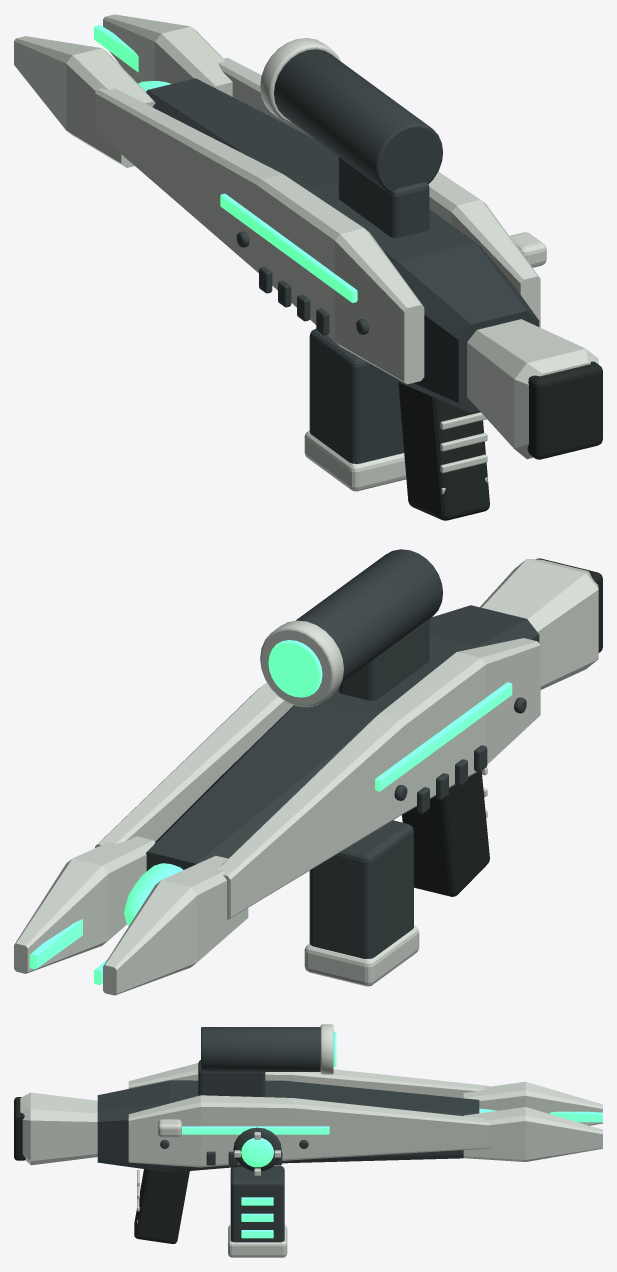
Rendered from Reference_plasma_sniper.glb.
3 renders of one model, top to bottom at view 1: azimuth 30°, elevation 25°; view 2: azimuth 150°, elevation 25°; view 3: azimuth 270°, elevation 25°, orthographic. The views are drawn at different scales.
Visible parts, largest first — view 1: Body, ReloadMagazine_EnergyCell, ChargingHandle_Reference; view 2: Body, ReloadMagazine_EnergyCell; view 3: Body, ReloadMagazine_EnergyCell, ChargingHandle_Reference.
Boxes of the visible parts, x1=… form: Body: x1=14, y1=14, x2=602, y2=520; ReloadMagazine_EnergyCell: x1=304, y1=329, x2=406, y2=491; ChargingHandle_Reference: x1=509, y1=232, x2=546, y2=267; Body: x1=14, y1=549, x2=602, y2=995; ReloadMagazine_EnergyCell: x1=304, y1=820, x2=419, y2=986; Body: x1=14, y1=1024, x2=602, y2=1243; ReloadMagazine_EnergyCell: x1=228, y1=1165, x2=287, y2=1257; ChargingHandle_Reference: x1=158, y1=1119, x2=181, y2=1137.
Bounding box in the file's own units: 0.2405 × 0.4765 × 1.14.
